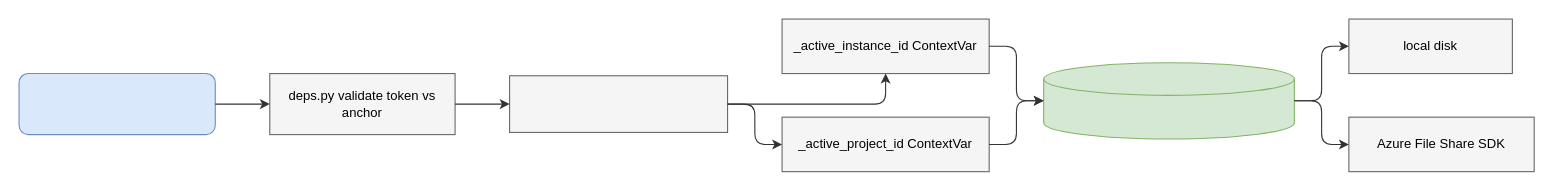
The diagram is 1553 pixels wide and 191 high, and some of its shapes have lost their labels. Here are the shapes that lost their labels. From the top down, the box of each, then its label:
(18, 72, 215, 135): HTTP request Authorization + X-Taiga-Url
(508, 75, 728, 132): ContextService.set_active(ctx)
(1043, 62, 1294, 139): StoragePath → contextspec/<instance_id>/<project_id>/
